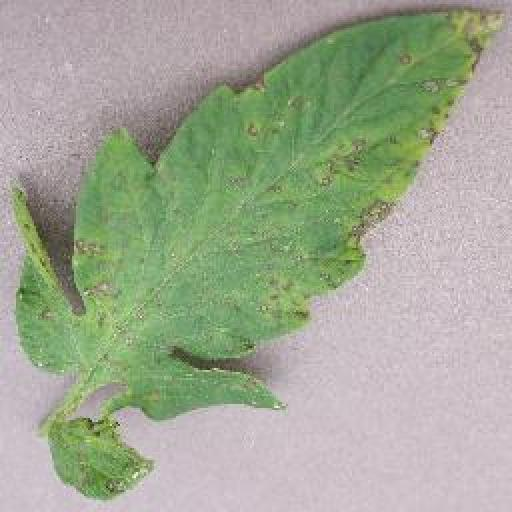disease_tomato: (14, 2, 503, 422)
